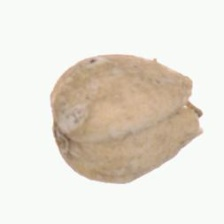L1: (49, 96, 72, 160), (183, 75, 204, 138)
L2: (50, 53, 204, 184)
